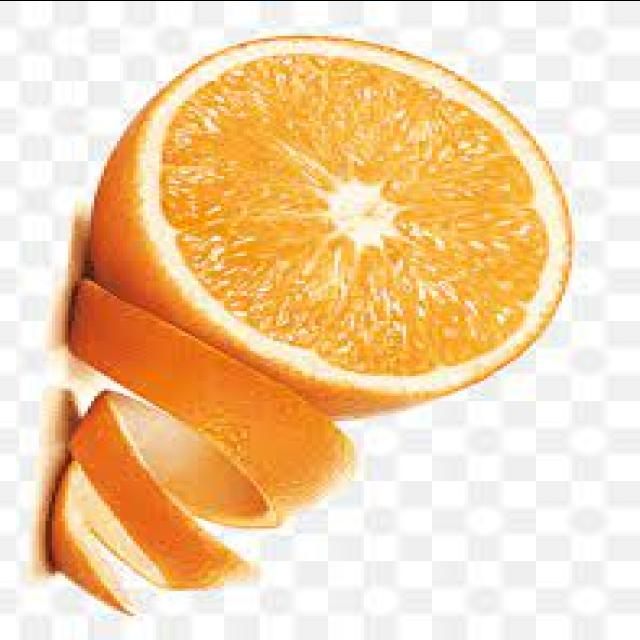orange: (81, 33, 614, 420)
